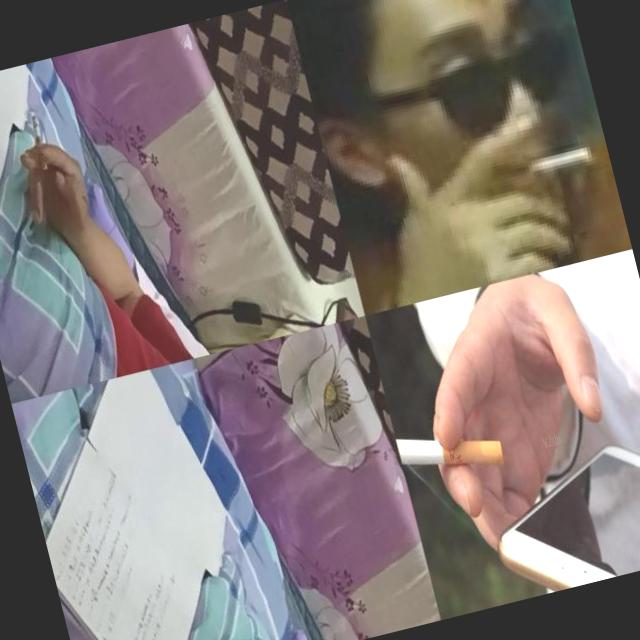smoke: (394, 411, 507, 490), (518, 144, 594, 181), (28, 114, 50, 170)
